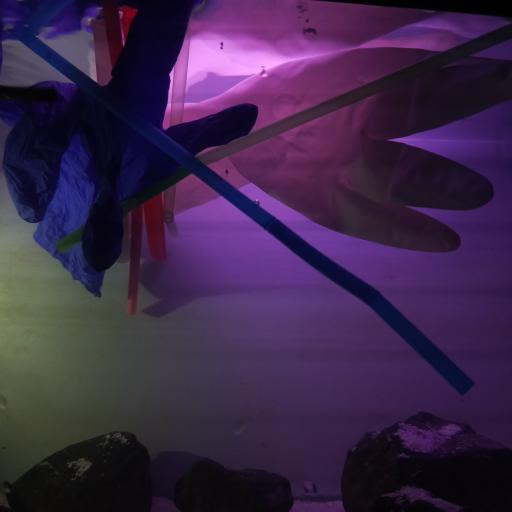glove: (2, 0, 262, 304), (160, 46, 512, 254)
plastic_straw: (18, 34, 474, 399), (57, 24, 512, 252), (101, 6, 167, 264), (162, 36, 192, 226), (125, 204, 143, 317)
